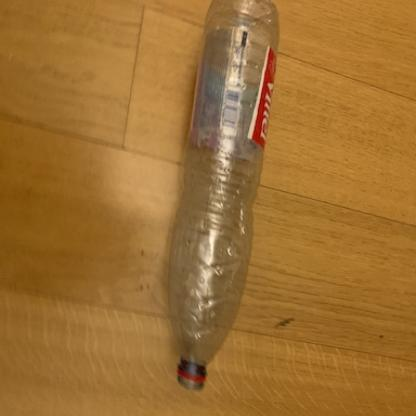trash: (167, 1, 289, 393)
